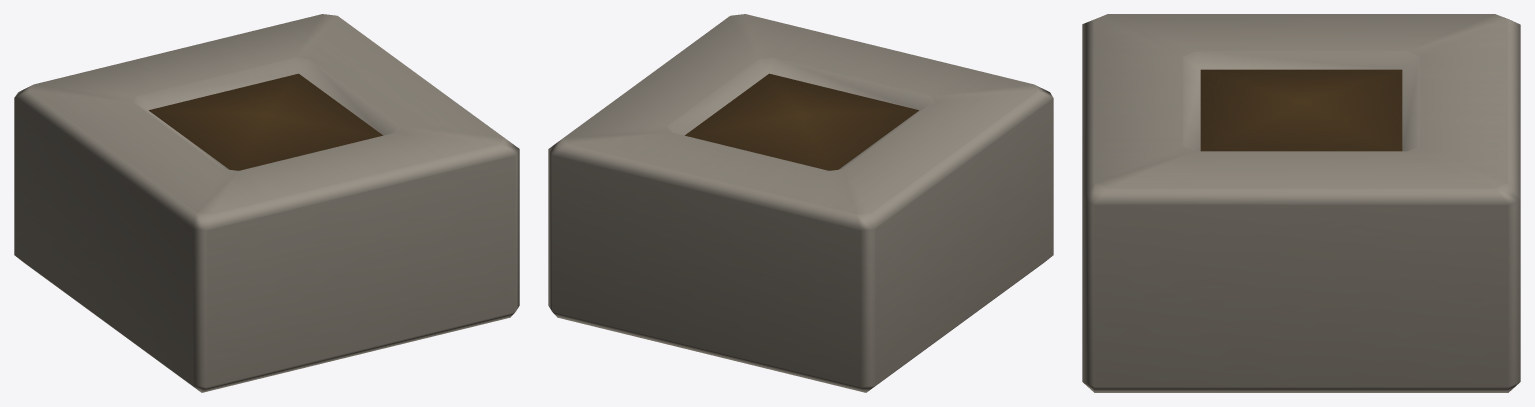
Rendered from plant_box_concrete_1x1x05.fbx.
3 renders of one model, left to right at view 1: azimuth 30°, elevation 25°; view 2: azimuth 150°, elevation 25°; view 3: azimuth 270°, elevation 25°, orthographic. The views are drawn at different scales.
Visible parts, largest first — view 1: plant_box_concrete_1x1x05; view 2: plant_box_concrete_1x1x05; view 3: plant_box_concrete_1x1x05.
Boxes of the visible parts, box(x1,y1,x2,y2) form: plant_box_concrete_1x1x05: box(14, 14, 519, 392); plant_box_concrete_1x1x05: box(548, 14, 1053, 392); plant_box_concrete_1x1x05: box(1082, 14, 1520, 392).
Size of the model in its own units: 100 by 51.38 by 100.
